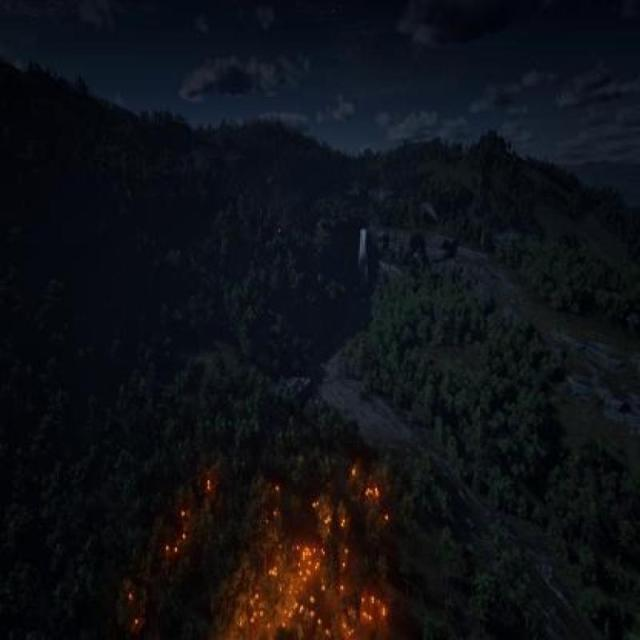Fire: (115, 463, 397, 640)
